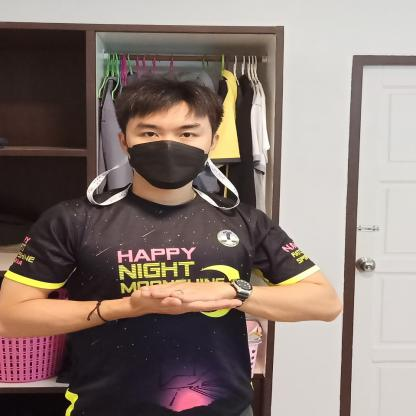Love: (96, 257, 310, 329)
